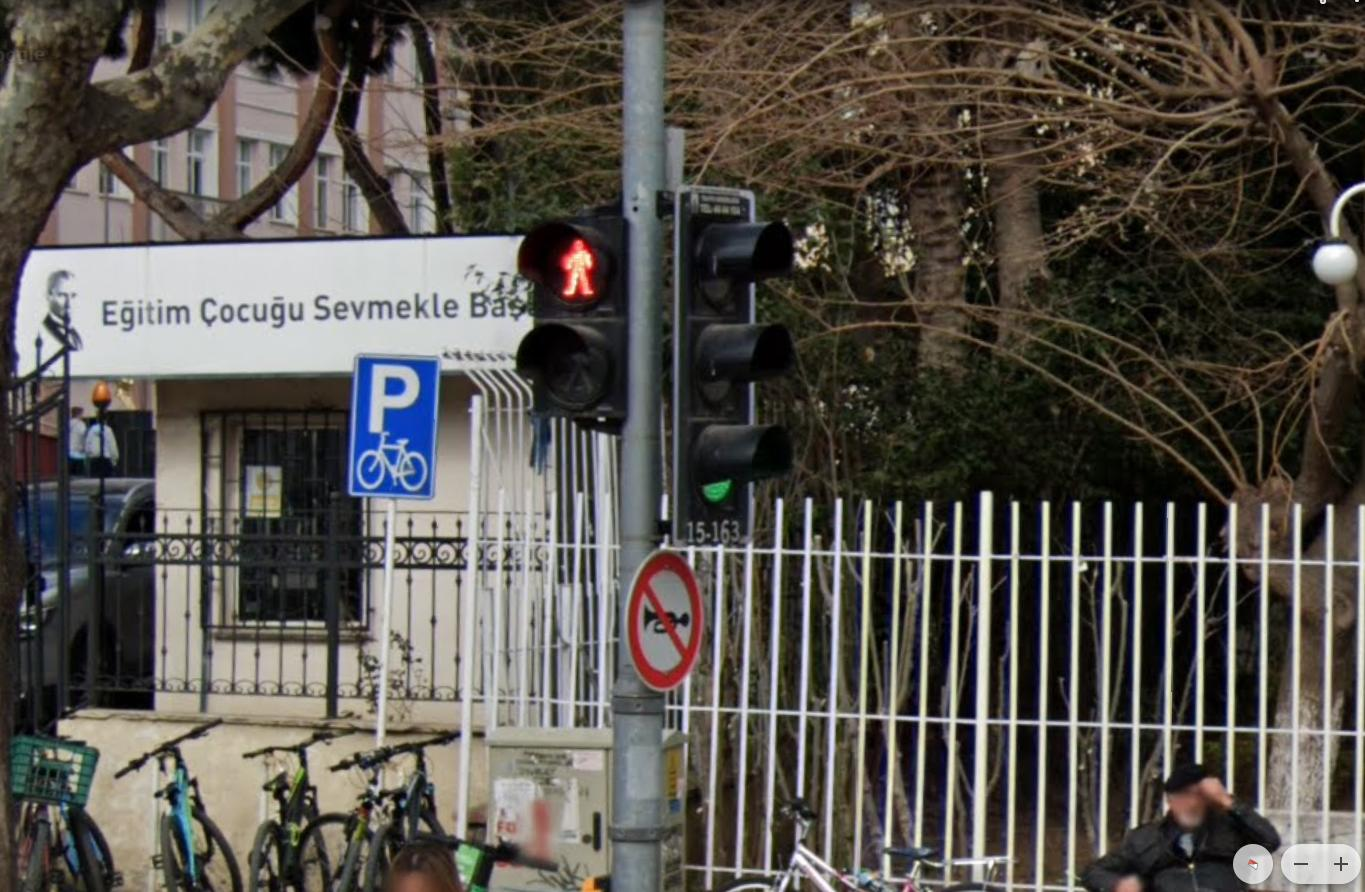greenlight: (676, 179, 786, 543)
park: (356, 355, 434, 448)
